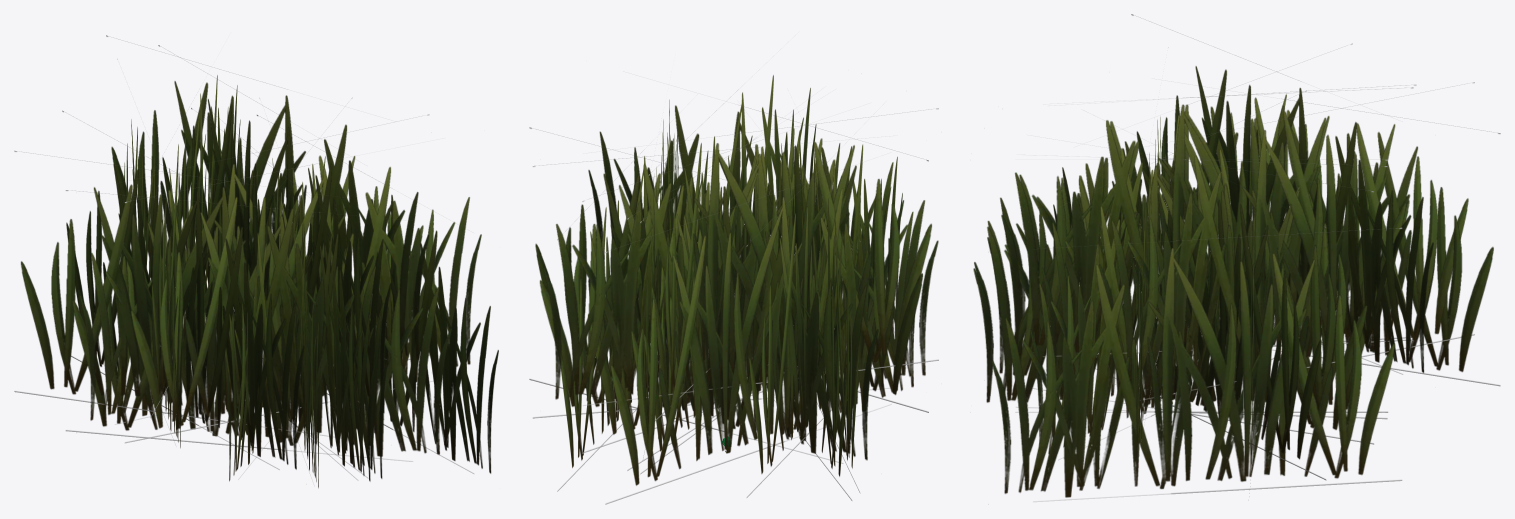
File: drive-nature.glb
3 views of the same model, side by side, from view 1: azimuth 30°, elevation 25°; view 2: azimuth 150°, elevation 25°; view 3: azimuth 270°, elevation 25° (orthographic). The views are drawn at different scales.
Parts seen in each view (by area): view 1: grass; view 2: grass; view 3: grass.
Part boxes in pixels (left/top/right/bottom): grass: left=14, top=35, right=498, bottom=487; grass: left=529, top=75, right=938, bottom=504; grass: left=973, top=14, right=1500, bottom=504.
Size of the model in its own units: 159 by 137 by 190.
Materials: 6 (1 with a texture image).
